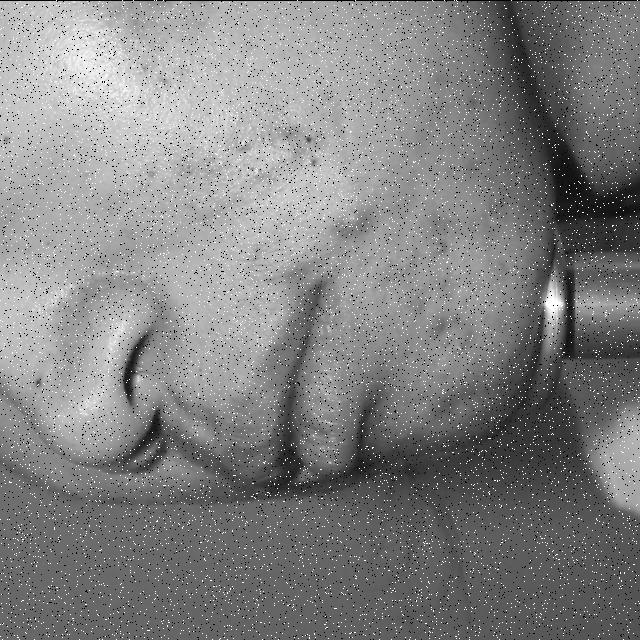nodules: (336, 202, 374, 239)
